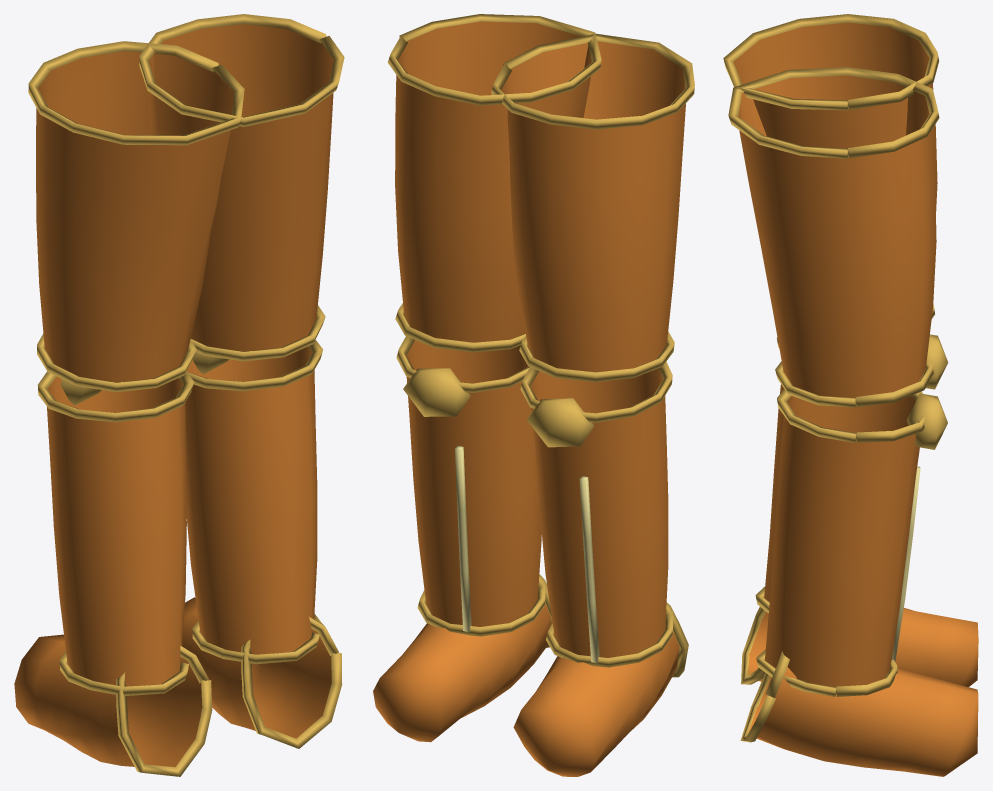
File: solar_flare_leggings.glb
3 views of the same model, side by side, from view 1: azimuth 30°, elevation 25°; view 2: azimuth 150°, elevation 25°; view 3: azimuth 270°, elevation 25° (orthographic). The views are drawn at different scales.
Visible parts, largest first — view 1: solar_flare_leggings_cuisse.L; view 2: solar_flare_leggings_cuisse.L; view 3: solar_flare_leggings_cuisse.L.
Part boxes in pixels (x1,y1,x2,y2): solar_flare_leggings_cuisse.L: [14, 14, 344, 776]; solar_flare_leggings_cuisse.L: [373, 14, 694, 776]; solar_flare_leggings_cuisse.L: [723, 14, 978, 776].
Bounding box in the file's own units: 0.4249 × 0.9563 × 0.3366.
